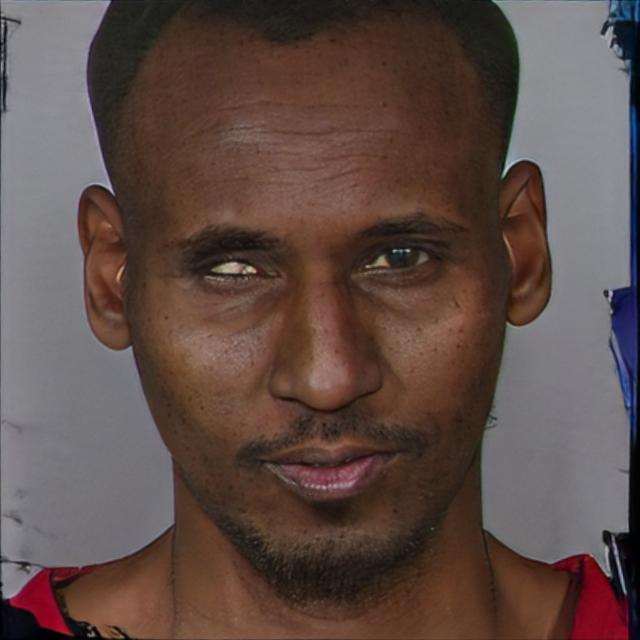content: (126, 12, 508, 585)
